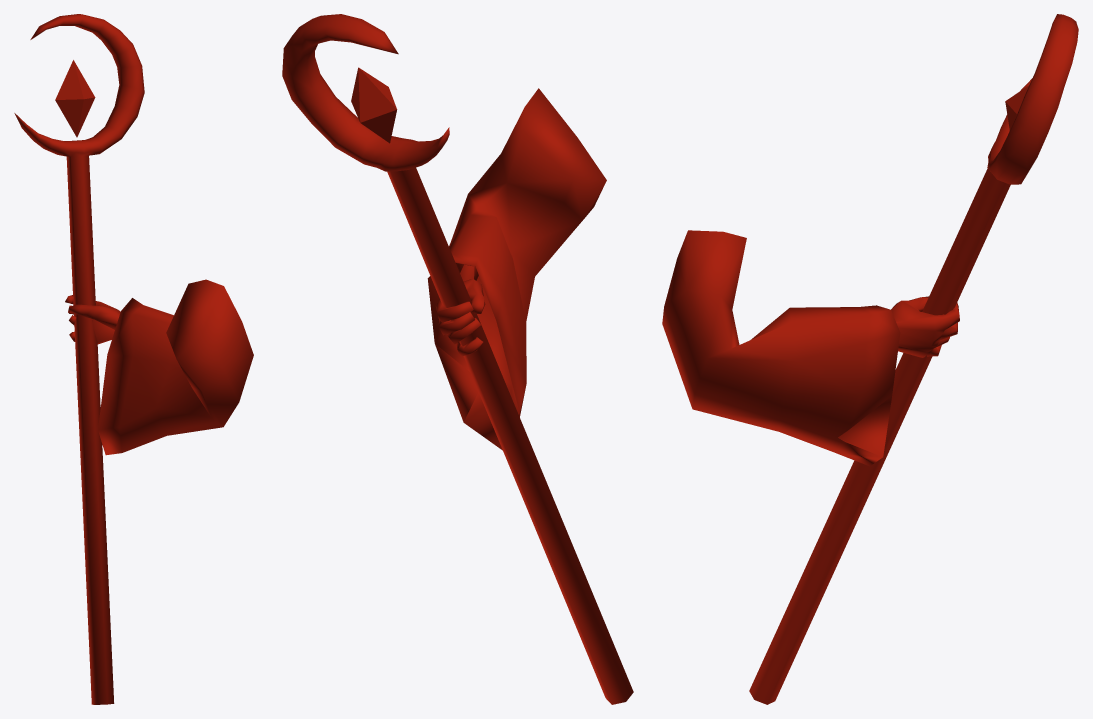
Rendered from arm_000030.obj.
3 views of the same model, side by side, from view 1: azimuth 30°, elevation 25°; view 2: azimuth 150°, elevation 25°; view 3: azimuth 270°, elevation 25° (orthographic). The views are drawn at different scales.
Parts seen in each view (by area): view 1: LowPoly_Warlock.000_Plane.005; view 2: LowPoly_Warlock.000_Plane.005; view 3: LowPoly_Warlock.000_Plane.005.
Boxes of the visible parts, box(x1,y1,x2,y2) form: LowPoly_Warlock.000_Plane.005: box(14, 14, 253, 704); LowPoly_Warlock.000_Plane.005: box(282, 14, 633, 704); LowPoly_Warlock.000_Plane.005: box(662, 14, 1078, 704).
Bounding box in the file's own units: 0.4886 × 1.77 × 0.9182.
